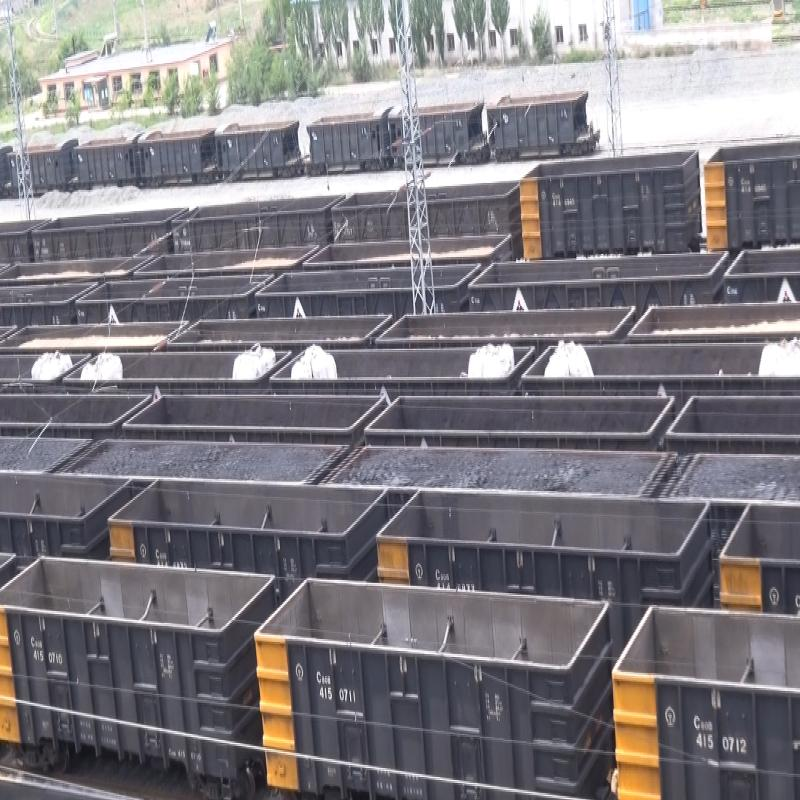train: (268, 574, 599, 800), (618, 604, 785, 800), (512, 155, 695, 254), (486, 84, 603, 155), (389, 103, 489, 165)
